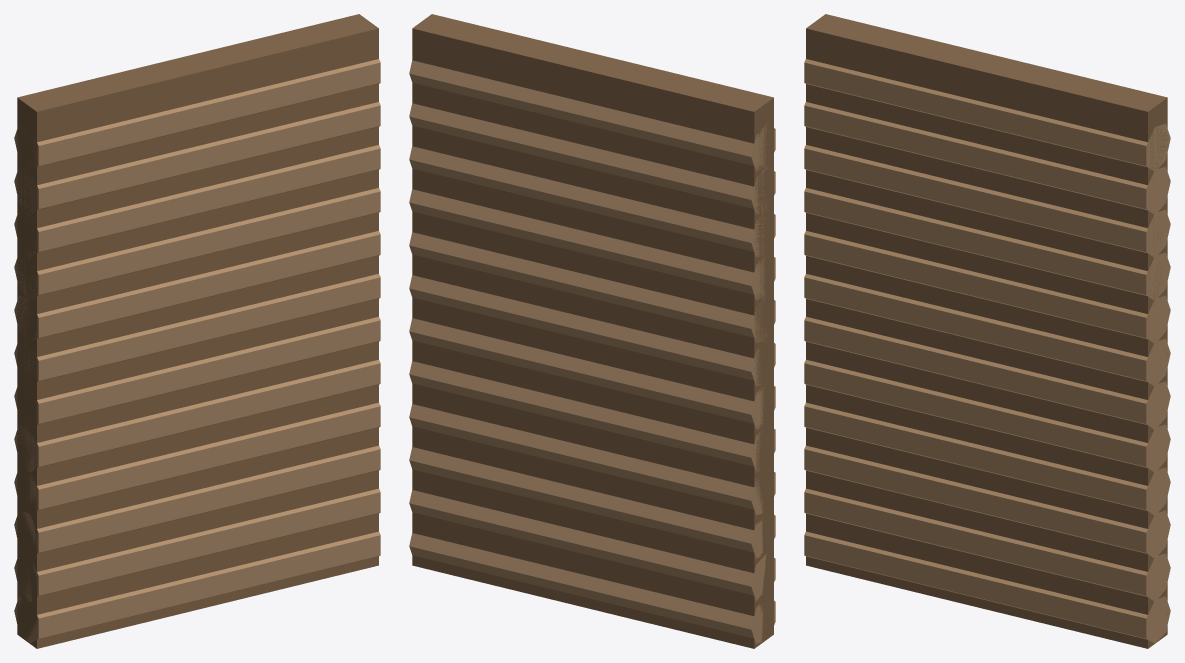
The model's file is SM_Wall_Log.glb.
3 renders of one model, left to right at view 1: azimuth 30°, elevation 25°; view 2: azimuth 150°, elevation 25°; view 3: azimuth 330°, elevation 25°, orthographic.
Parts seen in each view (by area): view 1: SM_Wall_Log; view 2: SM_Wall_Log; view 3: SM_Wall_Log.
Part boxes in pixels (box(x1,y1,x2,y2)): SM_Wall_Log: box(14, 14, 380, 648); SM_Wall_Log: box(409, 14, 775, 648); SM_Wall_Log: box(804, 14, 1170, 648).
Bounding box in the file's own units: 2 × 3 × 0.2471.
